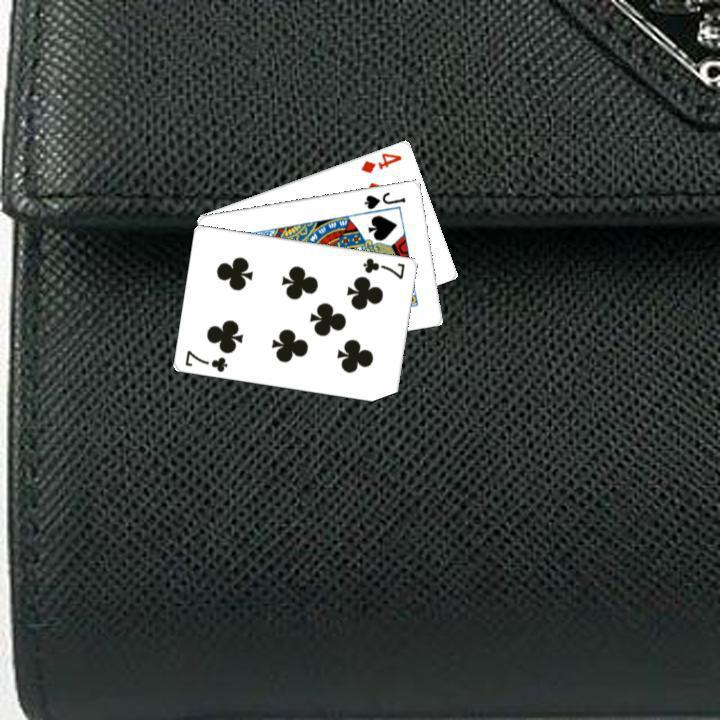4: (357, 148, 404, 175)
7: (181, 346, 230, 374), (359, 253, 407, 281)
J: (360, 187, 407, 211)
